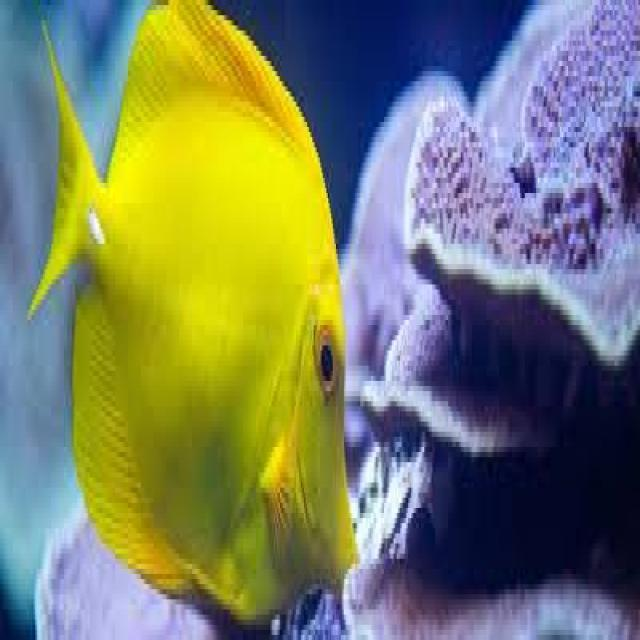YellowTang: (30, 0, 363, 640)
